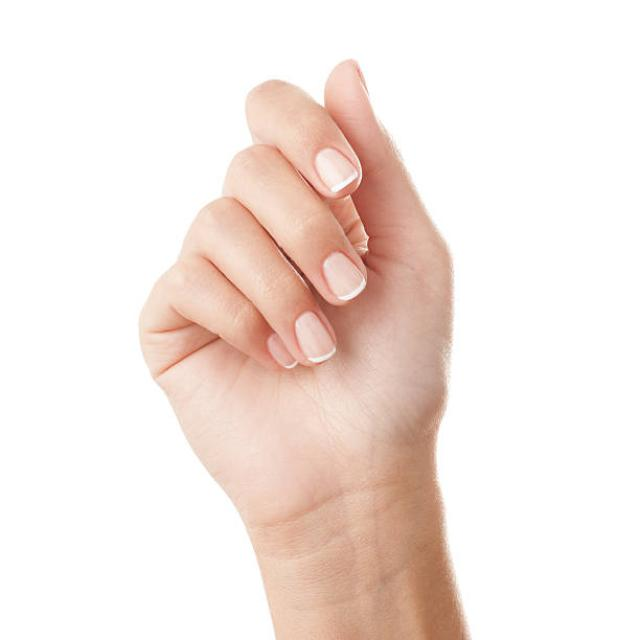Nail: (322, 252, 366, 301), (295, 311, 336, 362), (315, 148, 359, 192), (266, 332, 298, 369)
